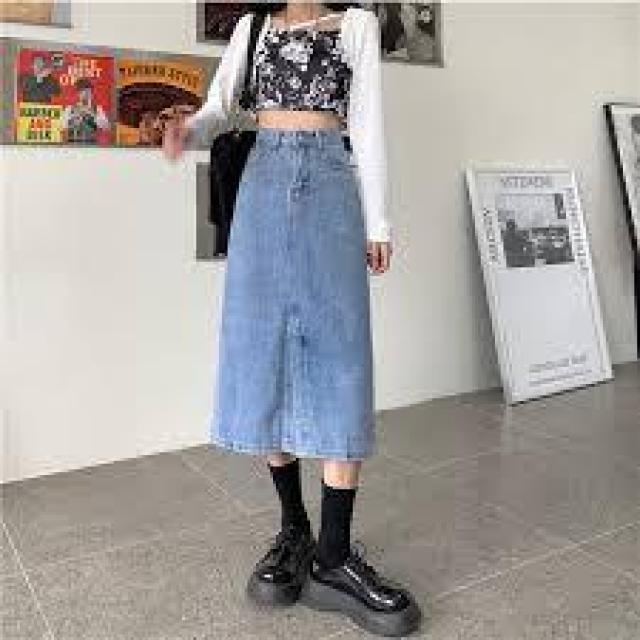skirt: (205, 111, 381, 486)
